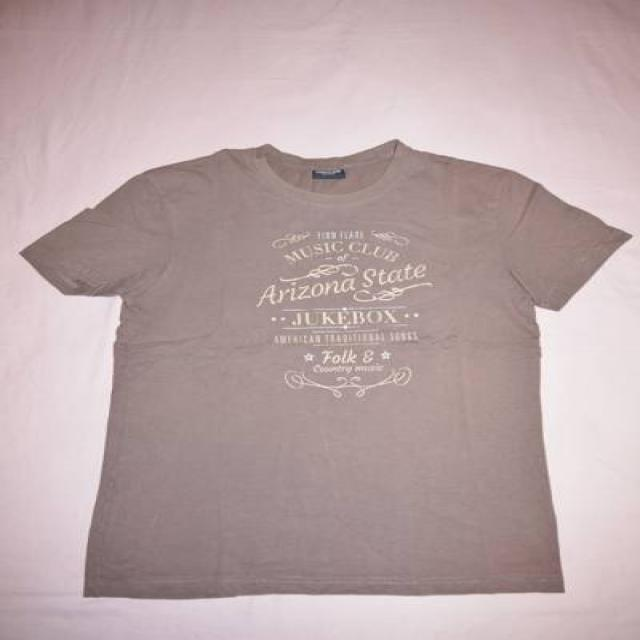Clothes -Biodegradable-: (19, 134, 628, 597)
